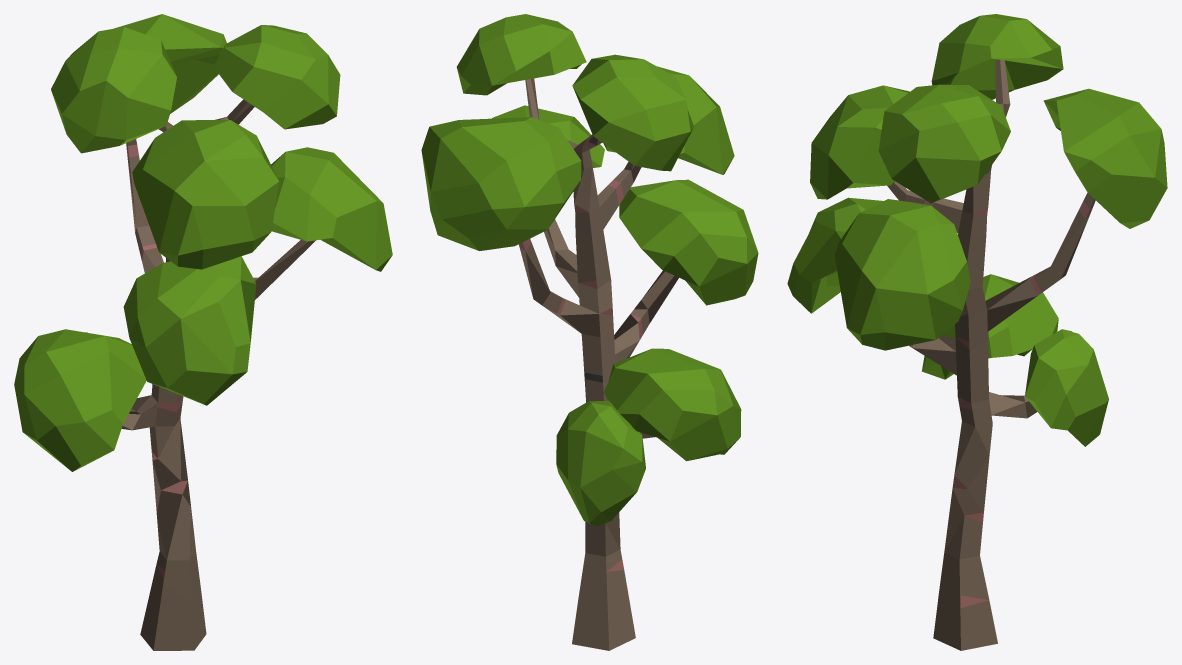
Rendered from Dhuamuqian.FBX.
The picture shows the model from 3 angles, left to right: view 1: azimuth 30°, elevation 25°; view 2: azimuth 150°, elevation 25°; view 3: azimuth 270°, elevation 25°; orthographic projection.
Visible parts, largest first — view 1: 对象007; view 2: 对象007; view 3: 对象007.
Part boxes in pixels (x1,y1,x2,y2): 对象007: (14, 14, 392, 650); 对象007: (421, 14, 758, 650); 对象007: (787, 14, 1167, 650).
Bounding box in the file's own units: 37.76 × 70.01 × 40.07.
